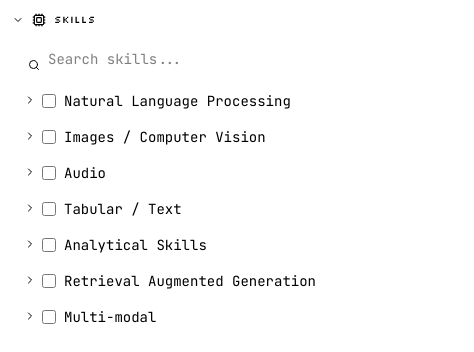
TaxonomyFilter › tree nodes › expands node to show children when expand button clicked
Step 1. Click the button with test id "taxonomy-filter-expand-natural_language_processing" → (30,101), box x1=24 y1=89 x2=36 y2=113
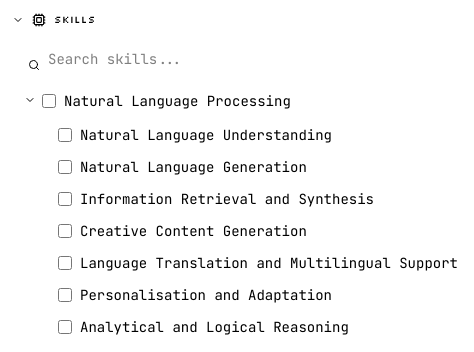
Expected: the element with test id "taxonomy-filter-node-natural_language_processing/natural_language_understanding" is shown, x1=58 y1=126 x2=332 y2=144
